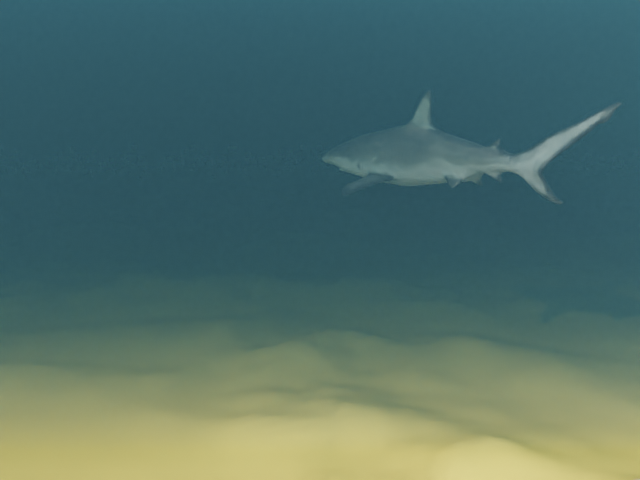Carribean Shark.001: (321, 89, 621, 204)
